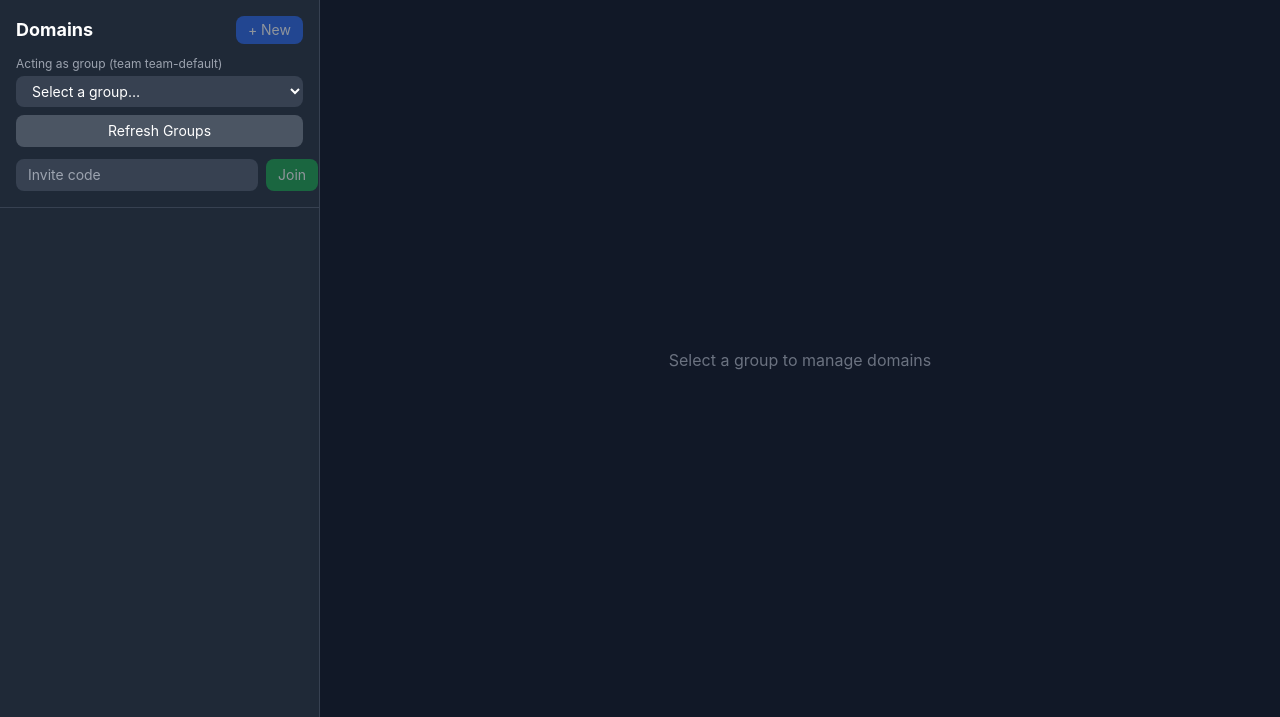
it: Slice 5: DomainsPage › updates the member capability list after declaring capabilities
Select "Alpha" in the dropdown at point(160, 92), box [16, 76, 303, 107]
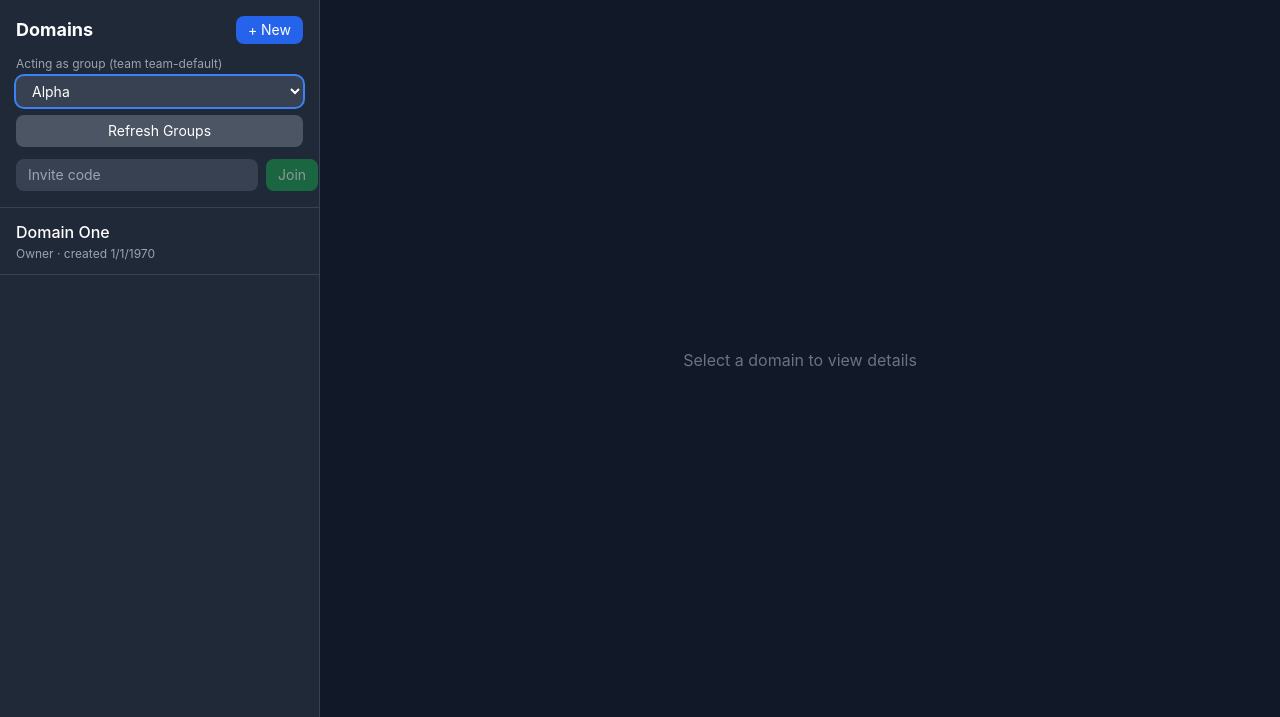
Result: the text "Domain One" is shown
Click the text "Domain One" at point(63, 232), box [16, 222, 110, 242]
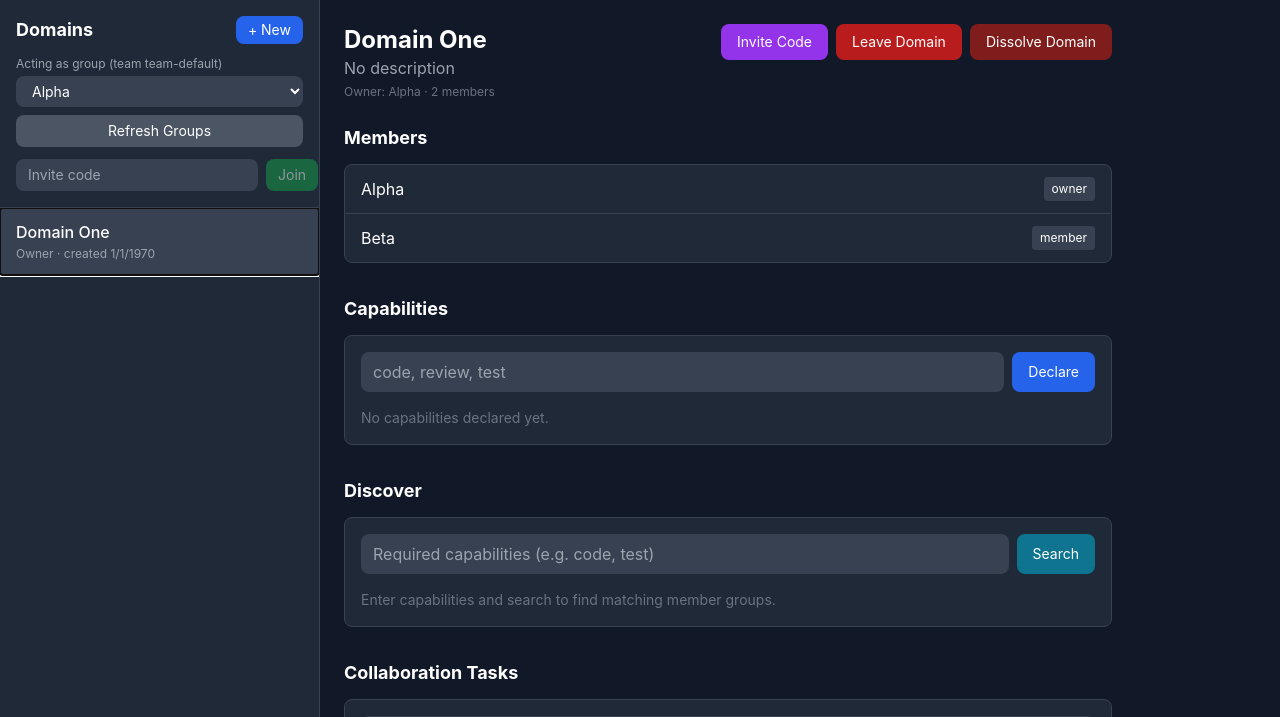
Result: the button "Declare" is shown at [1012, 352, 1095, 392]
Type "code, test" into the field with placeholder "code, review, test" at point(683, 372), box [361, 352, 1004, 392]
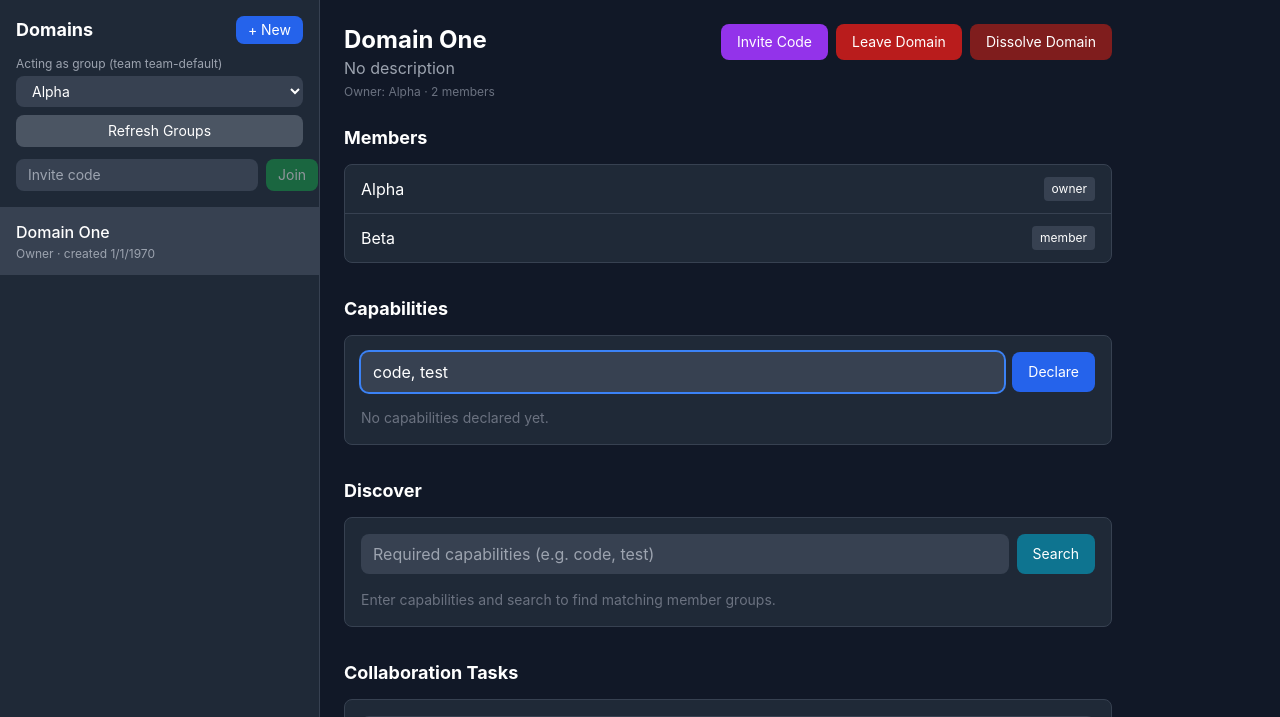
Click the button "Declare" at point(1054, 372), box [1012, 352, 1095, 392]
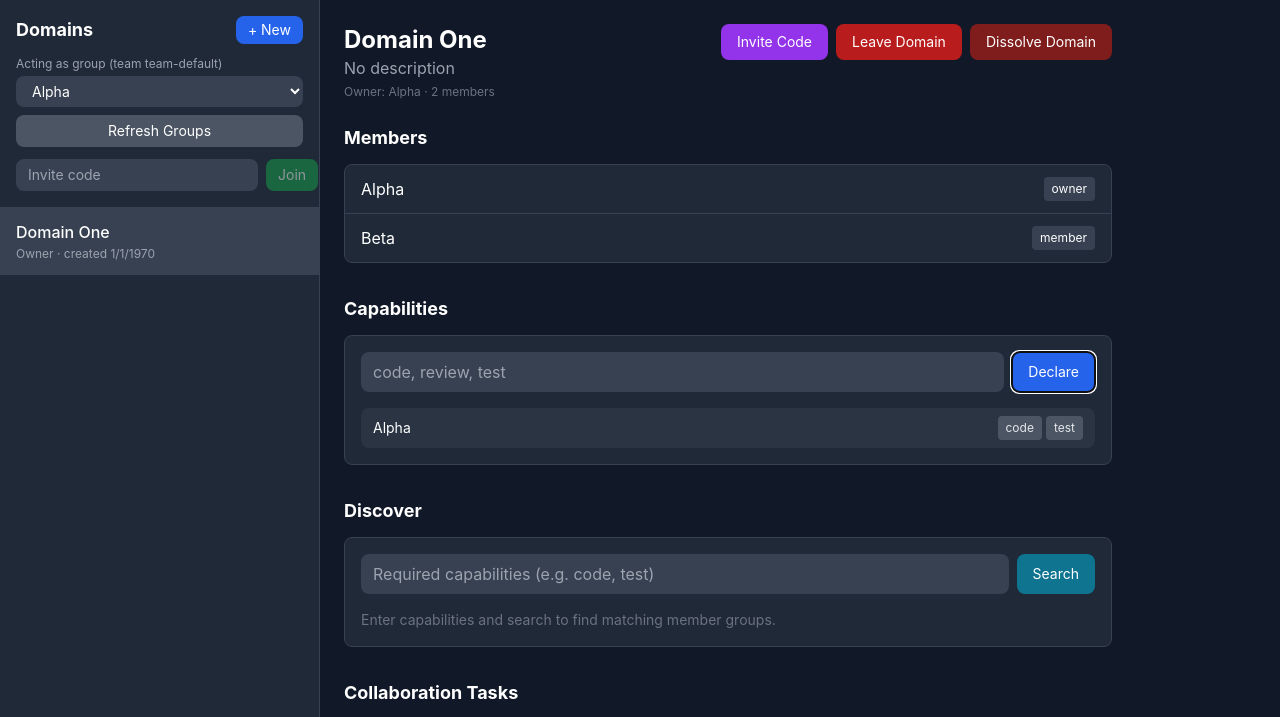
Result: the text "code" is shown at [998, 416, 1042, 440]
Result: the text "test" is shown at [1046, 416, 1083, 440]
